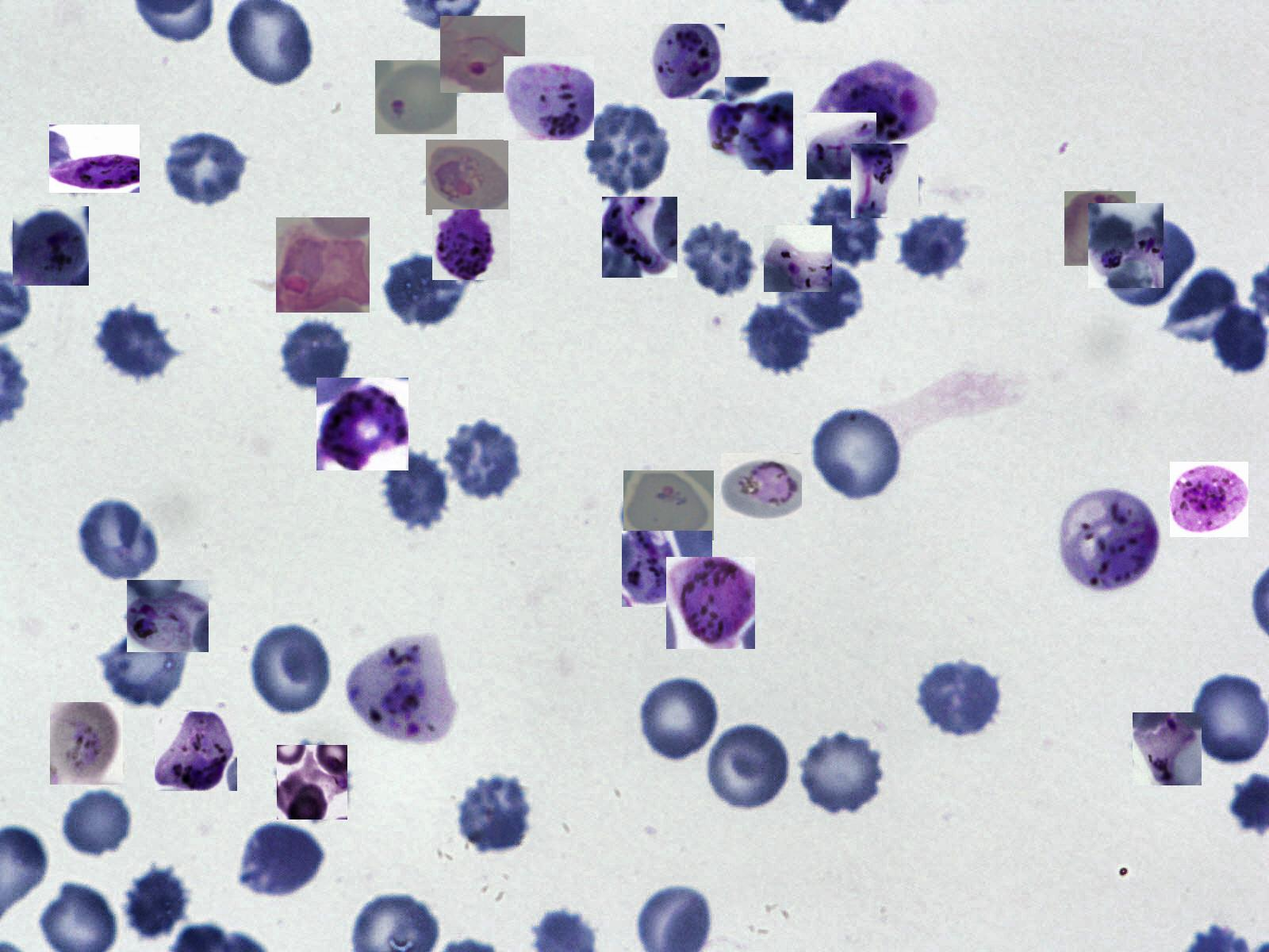Infected: (1059, 487, 1161, 593), (348, 637, 450, 740), (824, 57, 939, 137), (276, 217, 370, 313), (316, 378, 408, 470), (666, 557, 755, 649), (707, 77, 793, 170), (504, 56, 594, 140), (622, 531, 712, 607), (440, 16, 525, 93), (155, 712, 237, 791), (1088, 203, 1164, 288), (623, 470, 714, 540), (49, 125, 140, 193), (426, 140, 508, 215), (13, 206, 89, 286), (602, 197, 677, 278), (50, 702, 123, 785), (375, 61, 457, 134), (127, 580, 209, 652), (1170, 462, 1248, 537), (432, 209, 510, 280), (652, 24, 725, 99), (1064, 191, 1136, 266), (721, 453, 802, 519), (277, 745, 347, 820), (1133, 712, 1202, 785), (851, 144, 918, 218), (764, 225, 832, 292), (807, 113, 876, 179)
Uninfected: (809, 404, 907, 502), (248, 621, 335, 720), (704, 720, 793, 815), (796, 727, 888, 817), (581, 104, 673, 192), (1108, 217, 1195, 309), (636, 674, 723, 764), (98, 624, 190, 708), (75, 499, 162, 582), (160, 126, 249, 207), (1192, 674, 1269, 764), (442, 417, 523, 502), (916, 659, 1003, 738), (240, 822, 327, 900), (773, 259, 865, 332), (382, 251, 468, 329), (455, 774, 535, 855), (94, 307, 177, 383), (807, 185, 883, 268), (741, 300, 819, 376), (379, 452, 452, 532), (122, 863, 195, 942), (1165, 268, 1242, 341), (682, 221, 757, 294), (280, 317, 352, 392), (893, 213, 972, 281), (64, 789, 132, 859), (1214, 304, 1267, 375)
